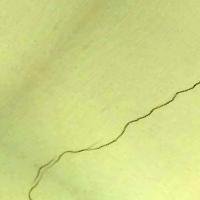crack: (25, 76, 199, 199)
